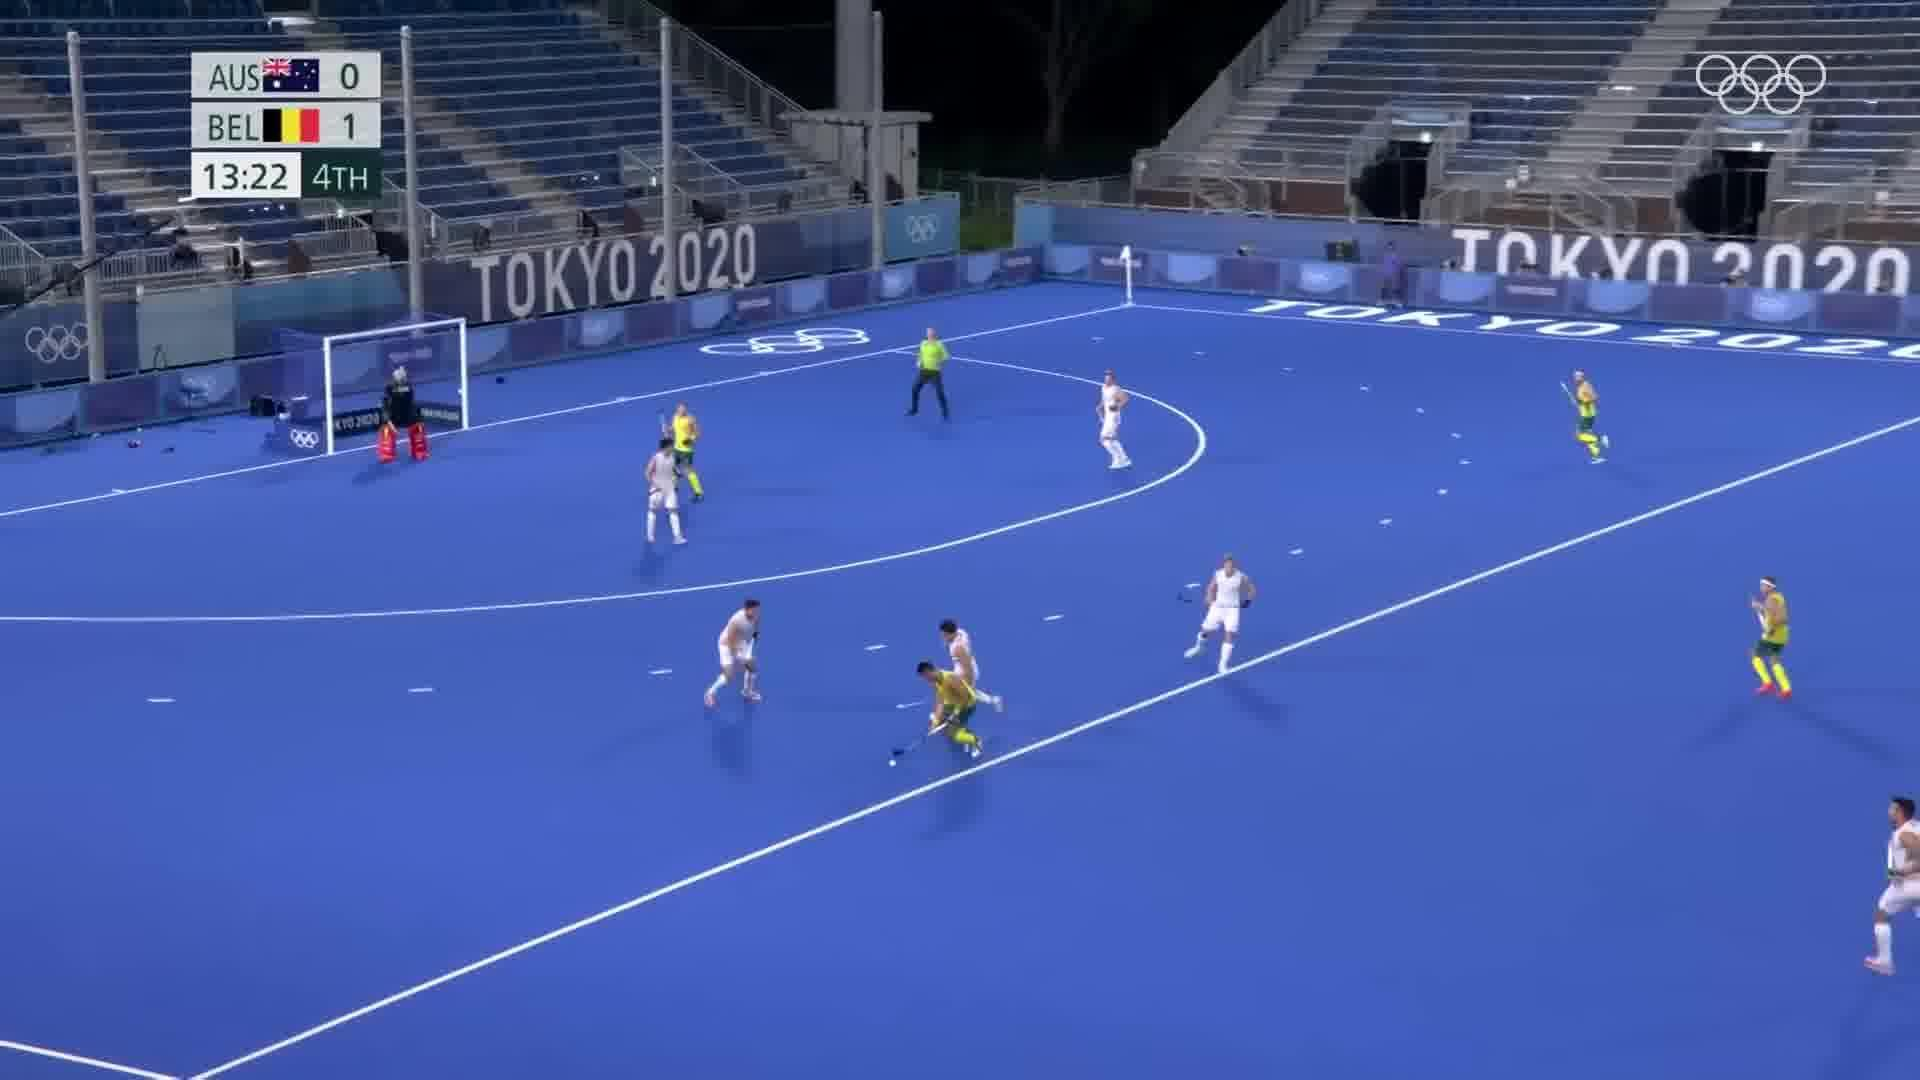ball: (880, 756, 901, 770)
